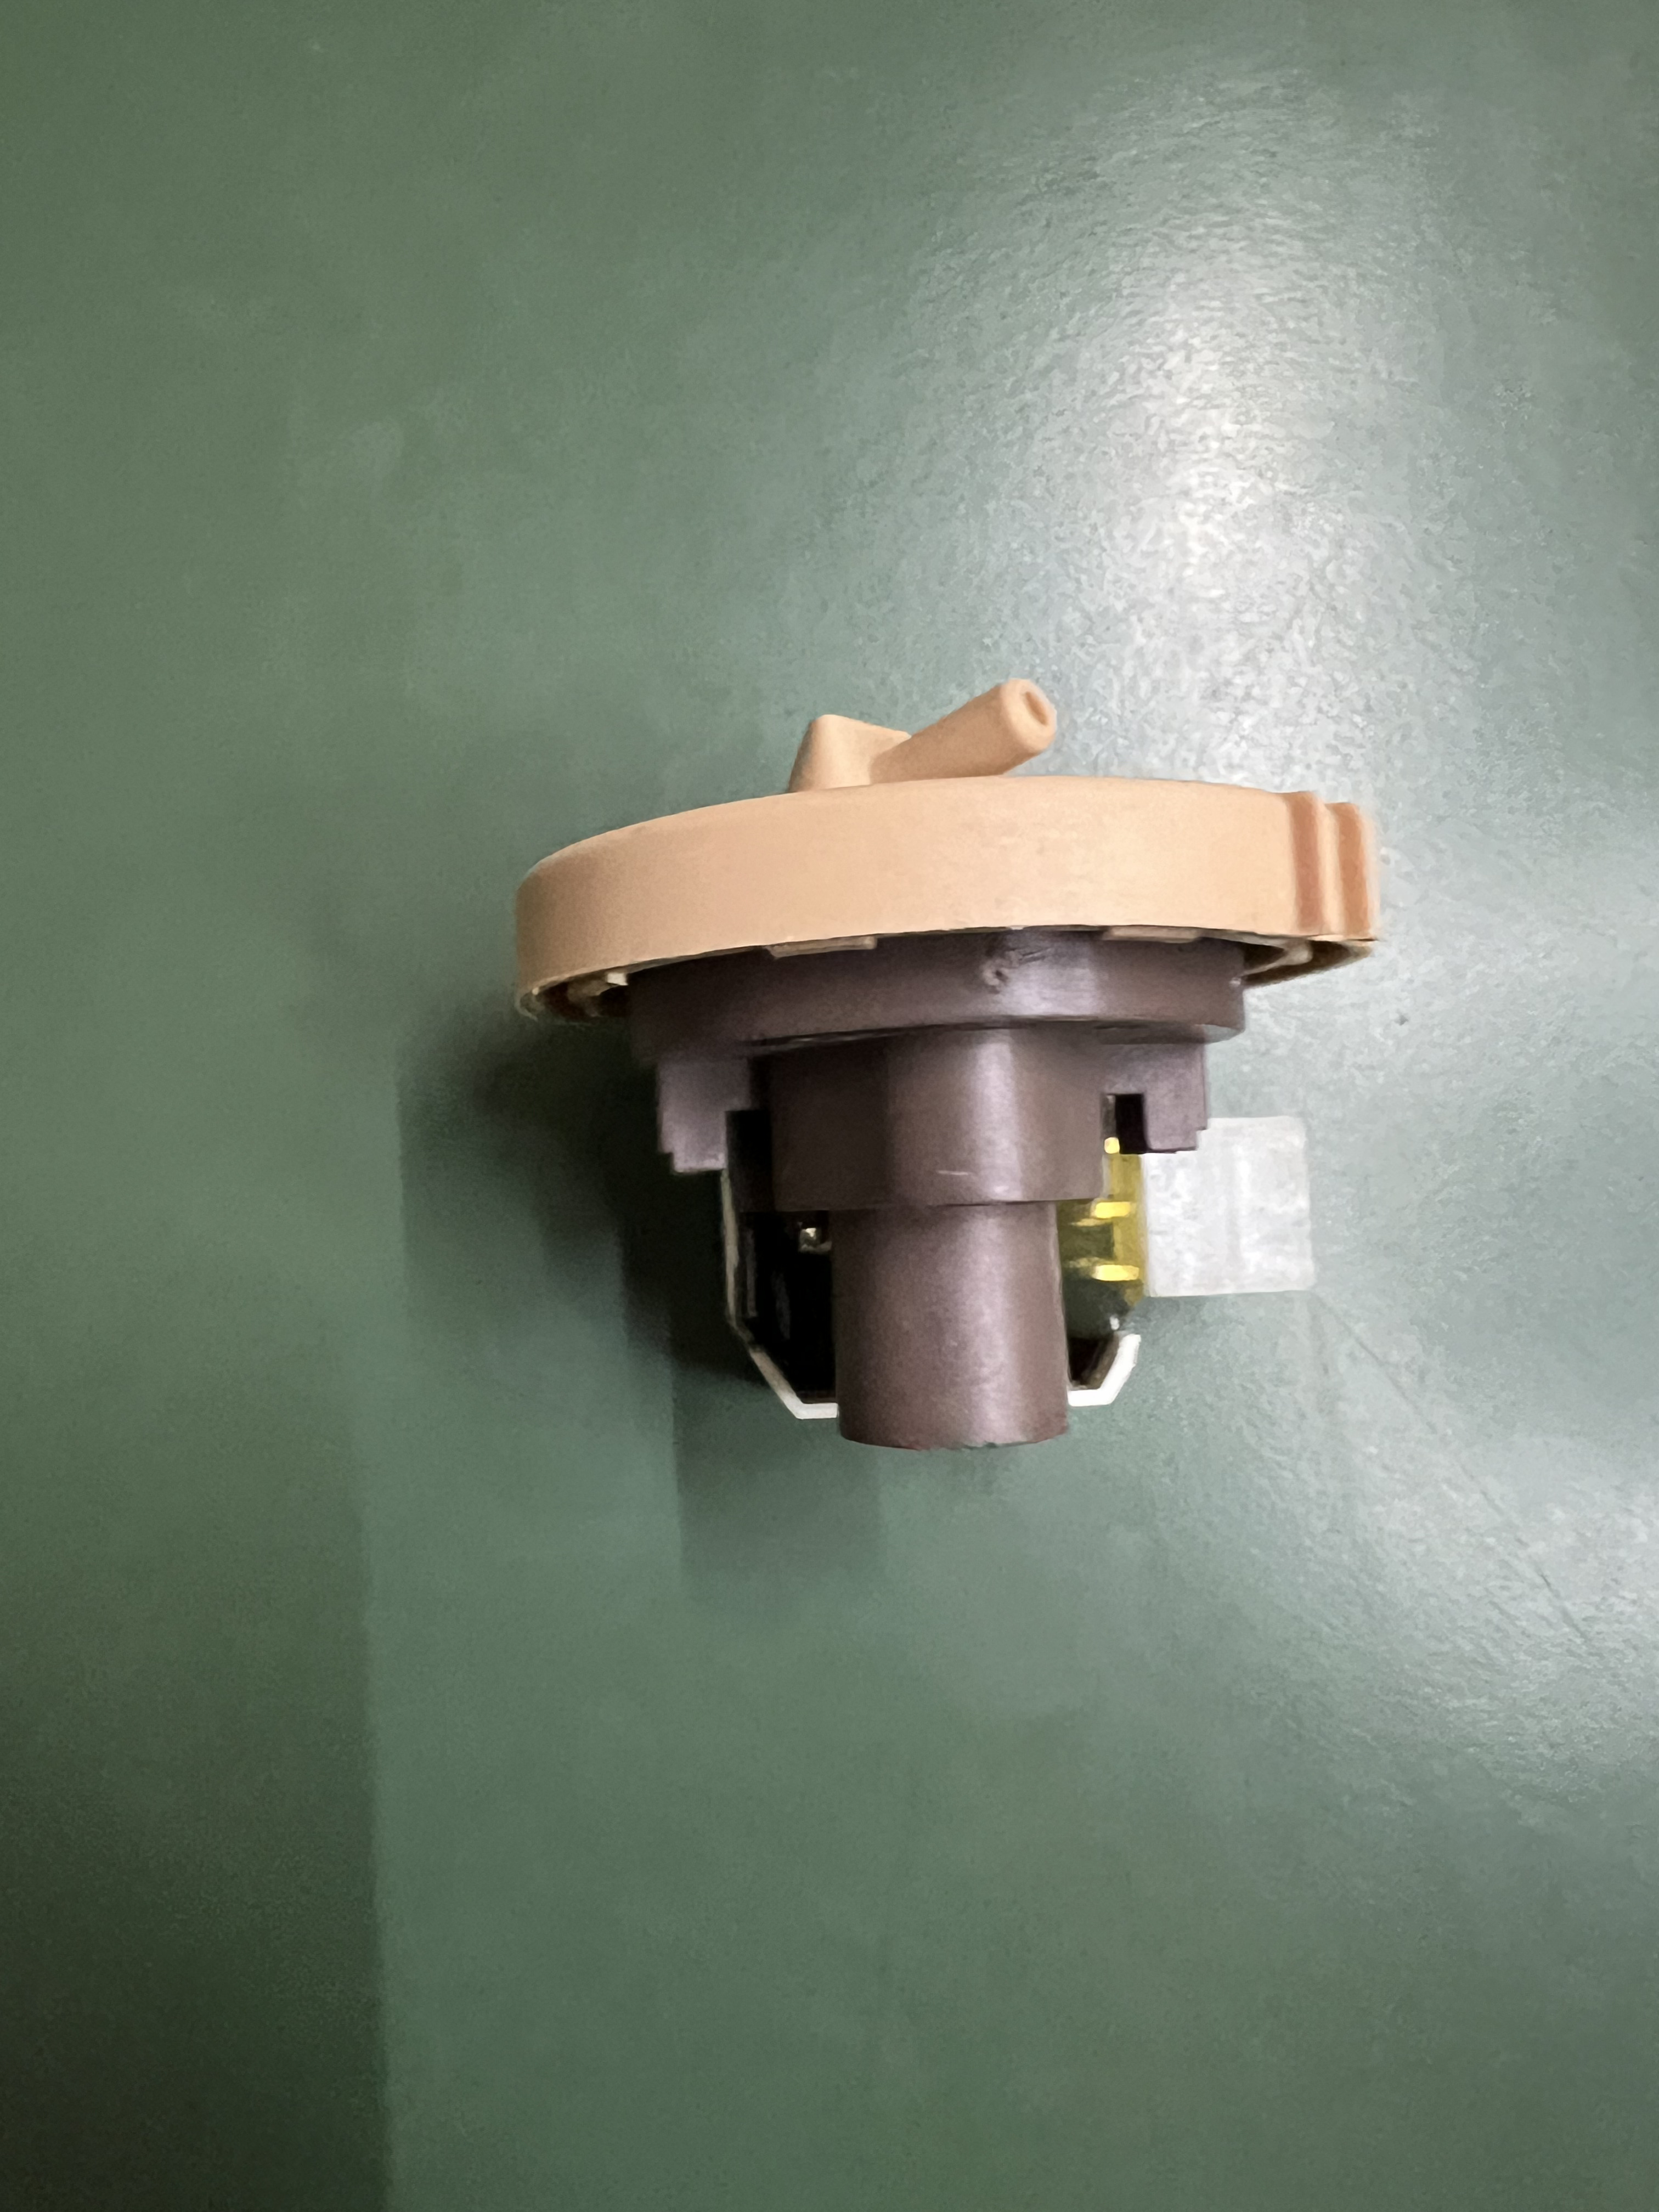pressure_sensor: (460, 688, 1419, 1454)
